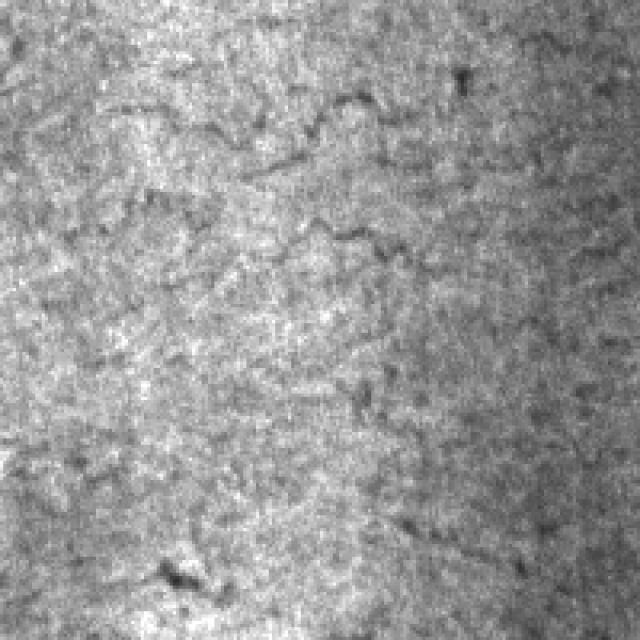crazing: (77, 13, 605, 176), (362, 301, 634, 579), (224, 150, 640, 298)
